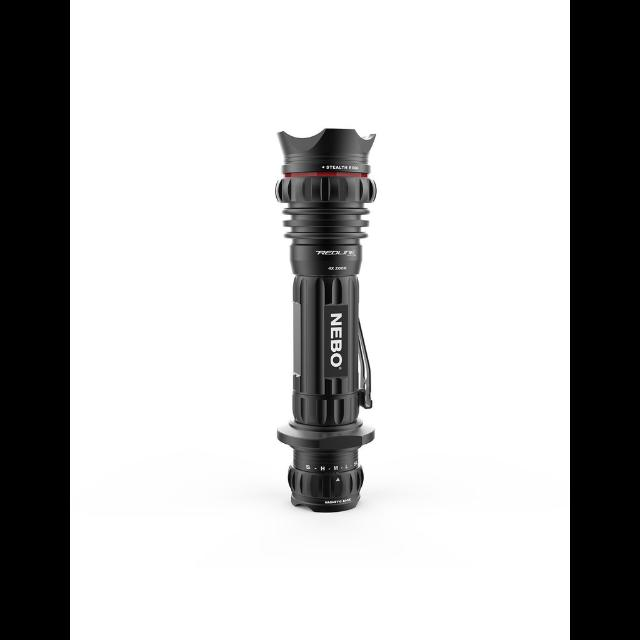Flashlight: (266, 122, 386, 520)
